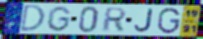0: (77, 5, 101, 34)
D: (19, 4, 47, 33)
G: (45, 6, 72, 33), (157, 7, 182, 35)
J: (133, 8, 155, 33)
R: (100, 7, 128, 33)
